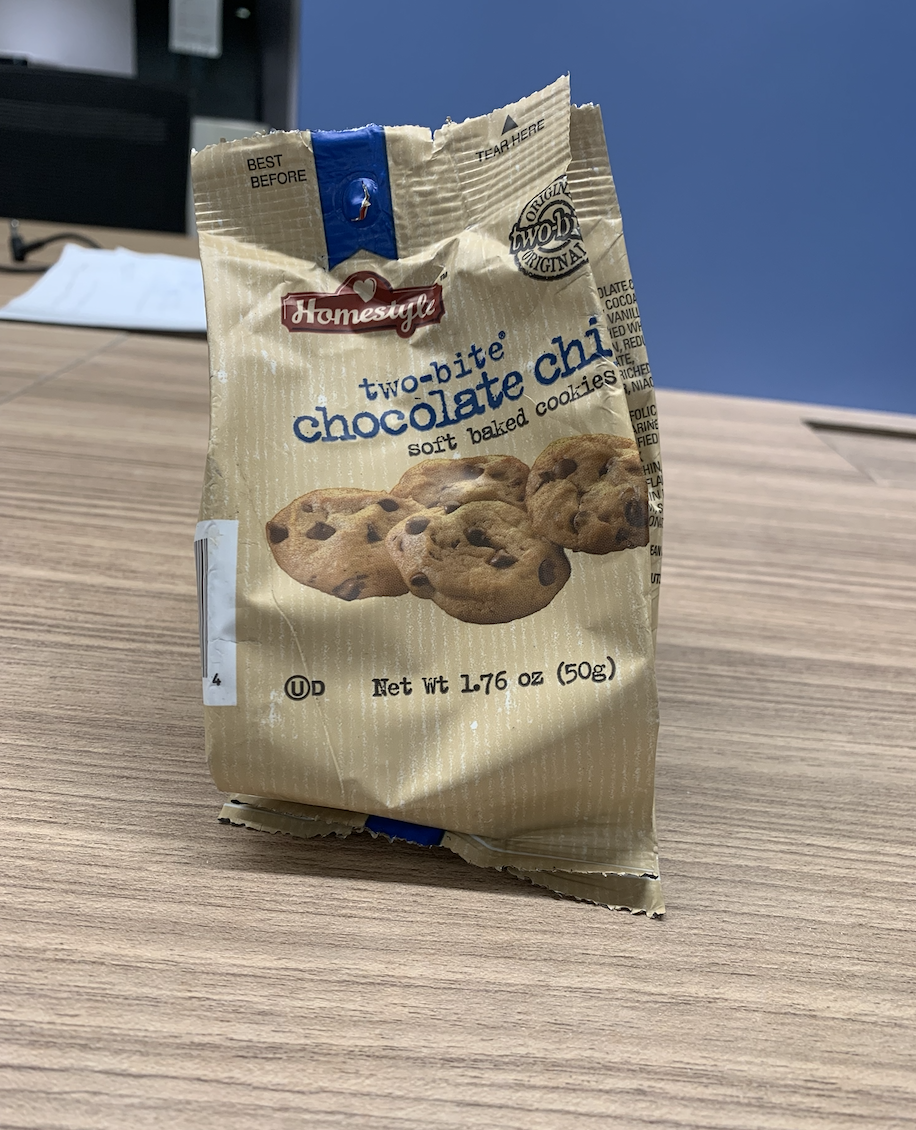cookies_50g: (211, 145, 651, 866)
